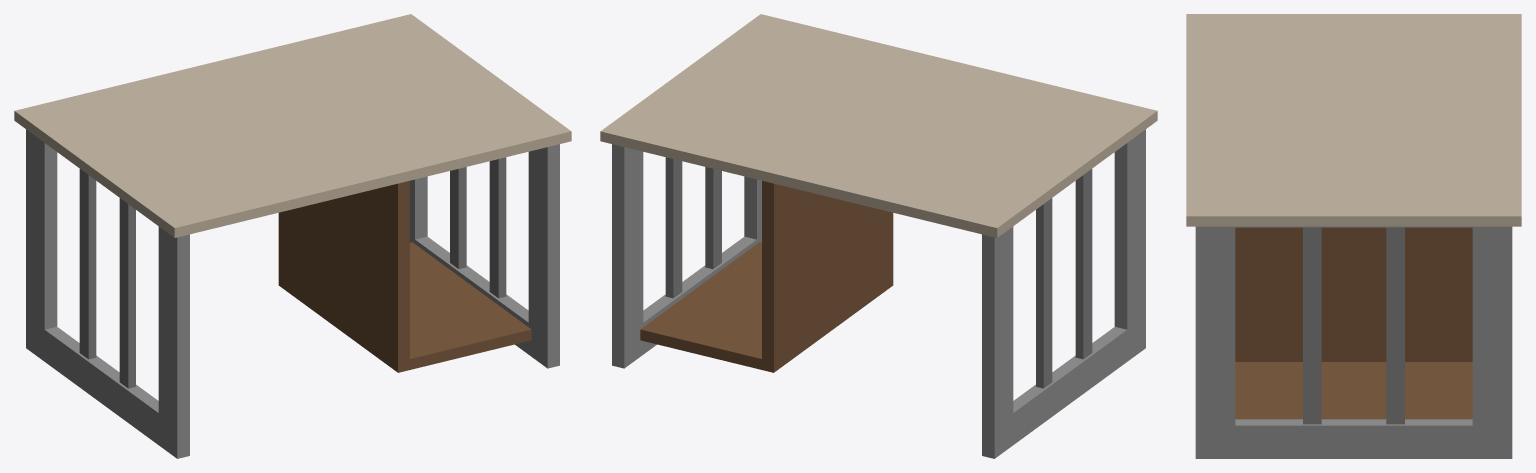
Rendered from Int_ComputerTable01.fbx.
The picture shows the model from 3 angles, left to right: view 1: azimuth 30°, elevation 25°; view 2: azimuth 150°, elevation 25°; view 3: azimuth 270°, elevation 25°; orthographic projection. The views are drawn at different scales.
Parts seen in each view (by area): view 1: Int_ComputerTable01; view 2: Int_ComputerTable01; view 3: Int_ComputerTable01.
Boxes of the visible parts, x1,y1,x2,y2 form: Int_ComputerTable01: (14, 14, 571, 458); Int_ComputerTable01: (600, 14, 1157, 458); Int_ComputerTable01: (1186, 14, 1521, 458).
Size of what is drawn, in the model's own units: 150 by 105 by 85.14.
